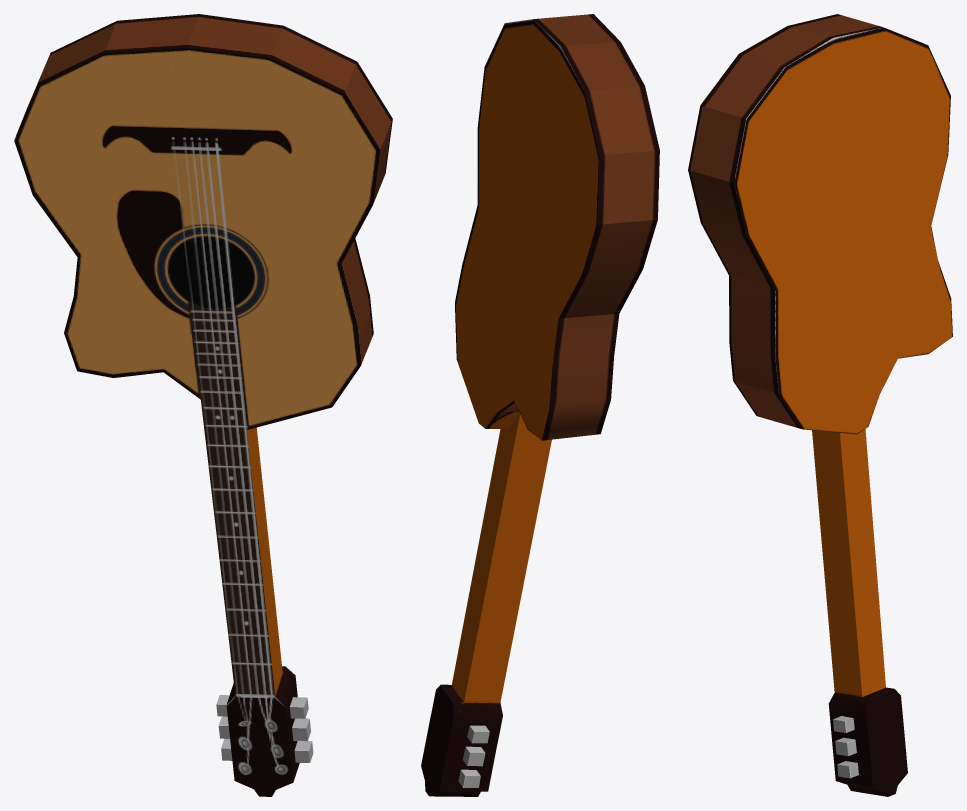
File: guitarra3_000208.obj
3 views of the same model, side by side, from view 1: azimuth 30°, elevation 25°; view 2: azimuth 150°, elevation 25°; view 3: azimuth 270°, elevation 25° (orthographic). The views are drawn at different scales.
Visible parts, largest first — view 1: Guitarra_2:pPlane4; view 2: Guitarra_2:pPlane4; view 3: Guitarra_2:pPlane4.
Boxes of the visible parts, x1,y1,x2,y2 form: Guitarra_2:pPlane4: (14,14,392,796); Guitarra_2:pPlane4: (421,14,659,796); Guitarra_2:pPlane4: (688,14,952,796).
Size of the model in its own units: 4.64 by 12.46 by 4.17.
